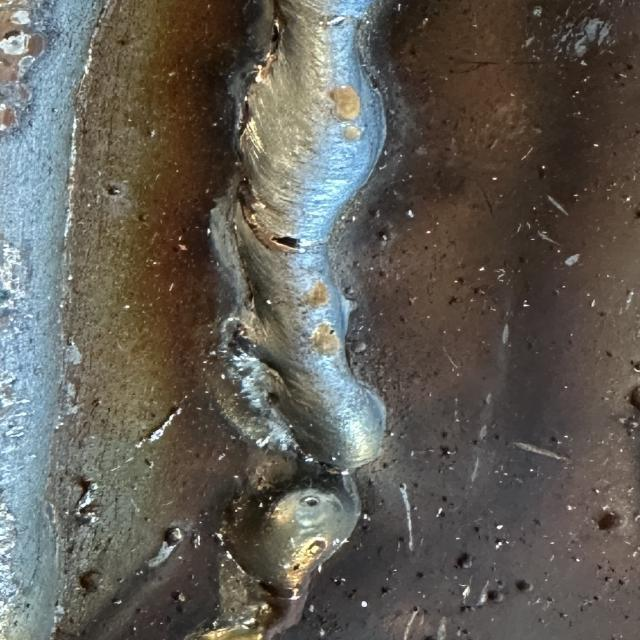Excess Reinforcement: (186, 624, 265, 640)
Porosity: (193, 0, 385, 640)
Spatters: (135, 408, 182, 448), (597, 511, 622, 531), (548, 195, 568, 216), (457, 552, 472, 569), (515, 580, 533, 592), (565, 254, 580, 266), (107, 184, 122, 195), (630, 546, 640, 562), (495, 269, 505, 282), (630, 360, 640, 372), (332, 578, 347, 585), (368, 210, 378, 218), (437, 509, 445, 518), (495, 540, 503, 549), (407, 210, 415, 218), (360, 601, 368, 608), (148, 130, 155, 138), (547, 596, 555, 602), (422, 18, 428, 26), (593, 489, 600, 494), (453, 279, 460, 284), (423, 244, 428, 250), (492, 176, 498, 181), (497, 525, 503, 530), (594, 144, 600, 148), (598, 565, 602, 571)
